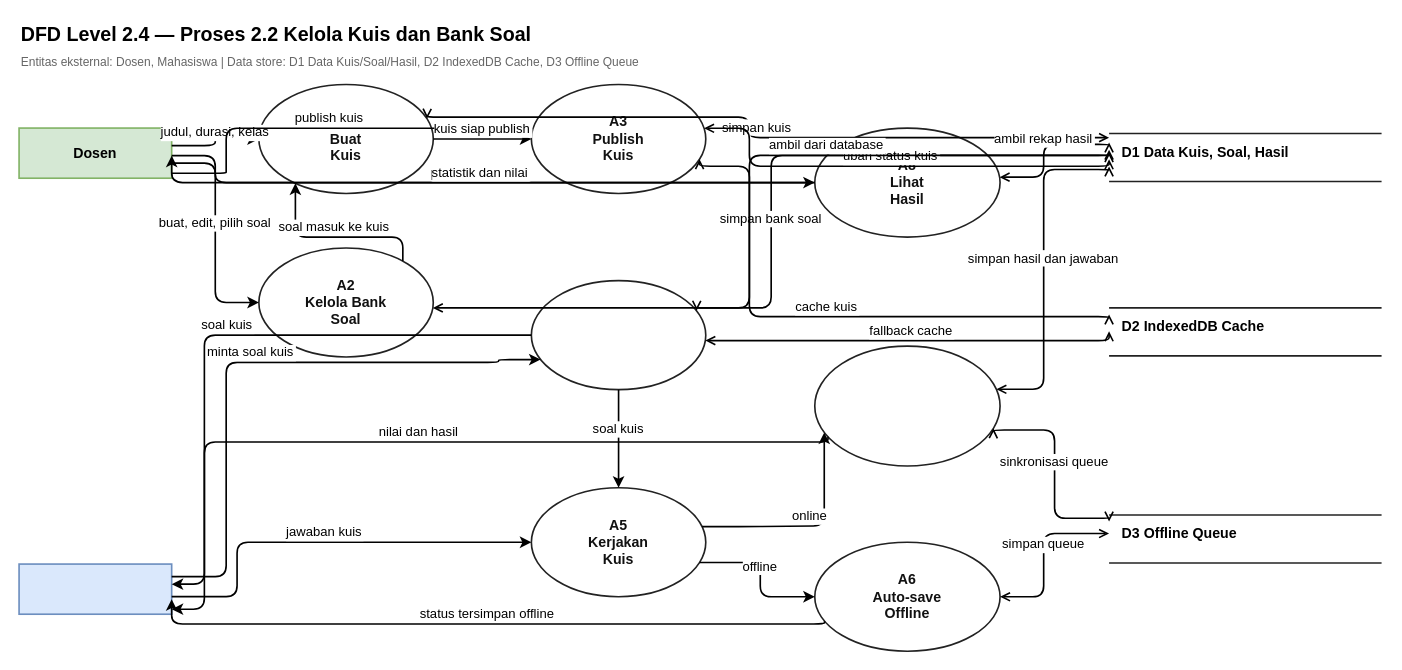
Some shapes in this 1402 by 670 pixel diagram are drawn without their labels. The centre of each missing label's shape, as x and y in pixels:
A4 Ambil Soal: the point at 618,334
A7 Submit dan Penilaian: the point at 906,405
Mahasiswa: the point at 95,589
